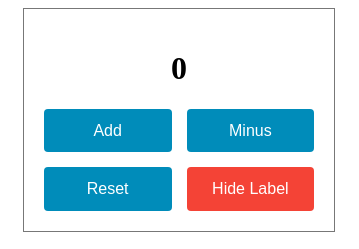
Test: the hide/show button works as expected
Click the button "Hide Label" at (250, 189), box [186, 168, 314, 211]
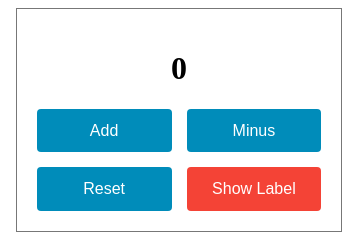
Expected: the button named "Hide Label" reads "Show Label", [186, 168, 321, 211]
